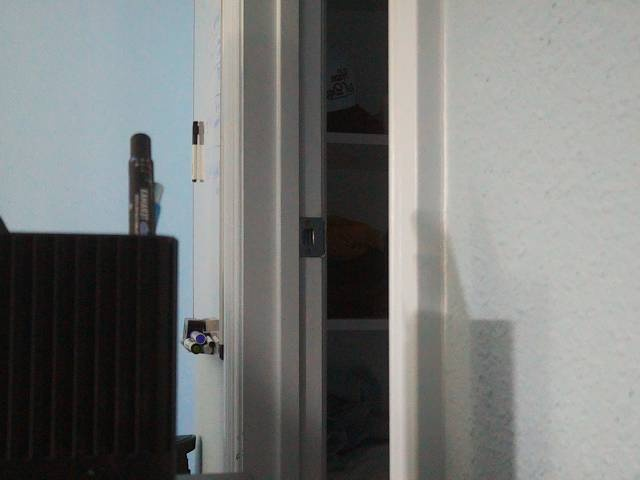crater: (239, 106, 440, 308), (282, 226, 468, 412), (237, 259, 418, 440), (236, 310, 406, 480), (281, 0, 434, 153), (276, 51, 427, 202), (306, 98, 457, 249), (306, 327, 457, 478)
shadow: (233, 438, 273, 480)
